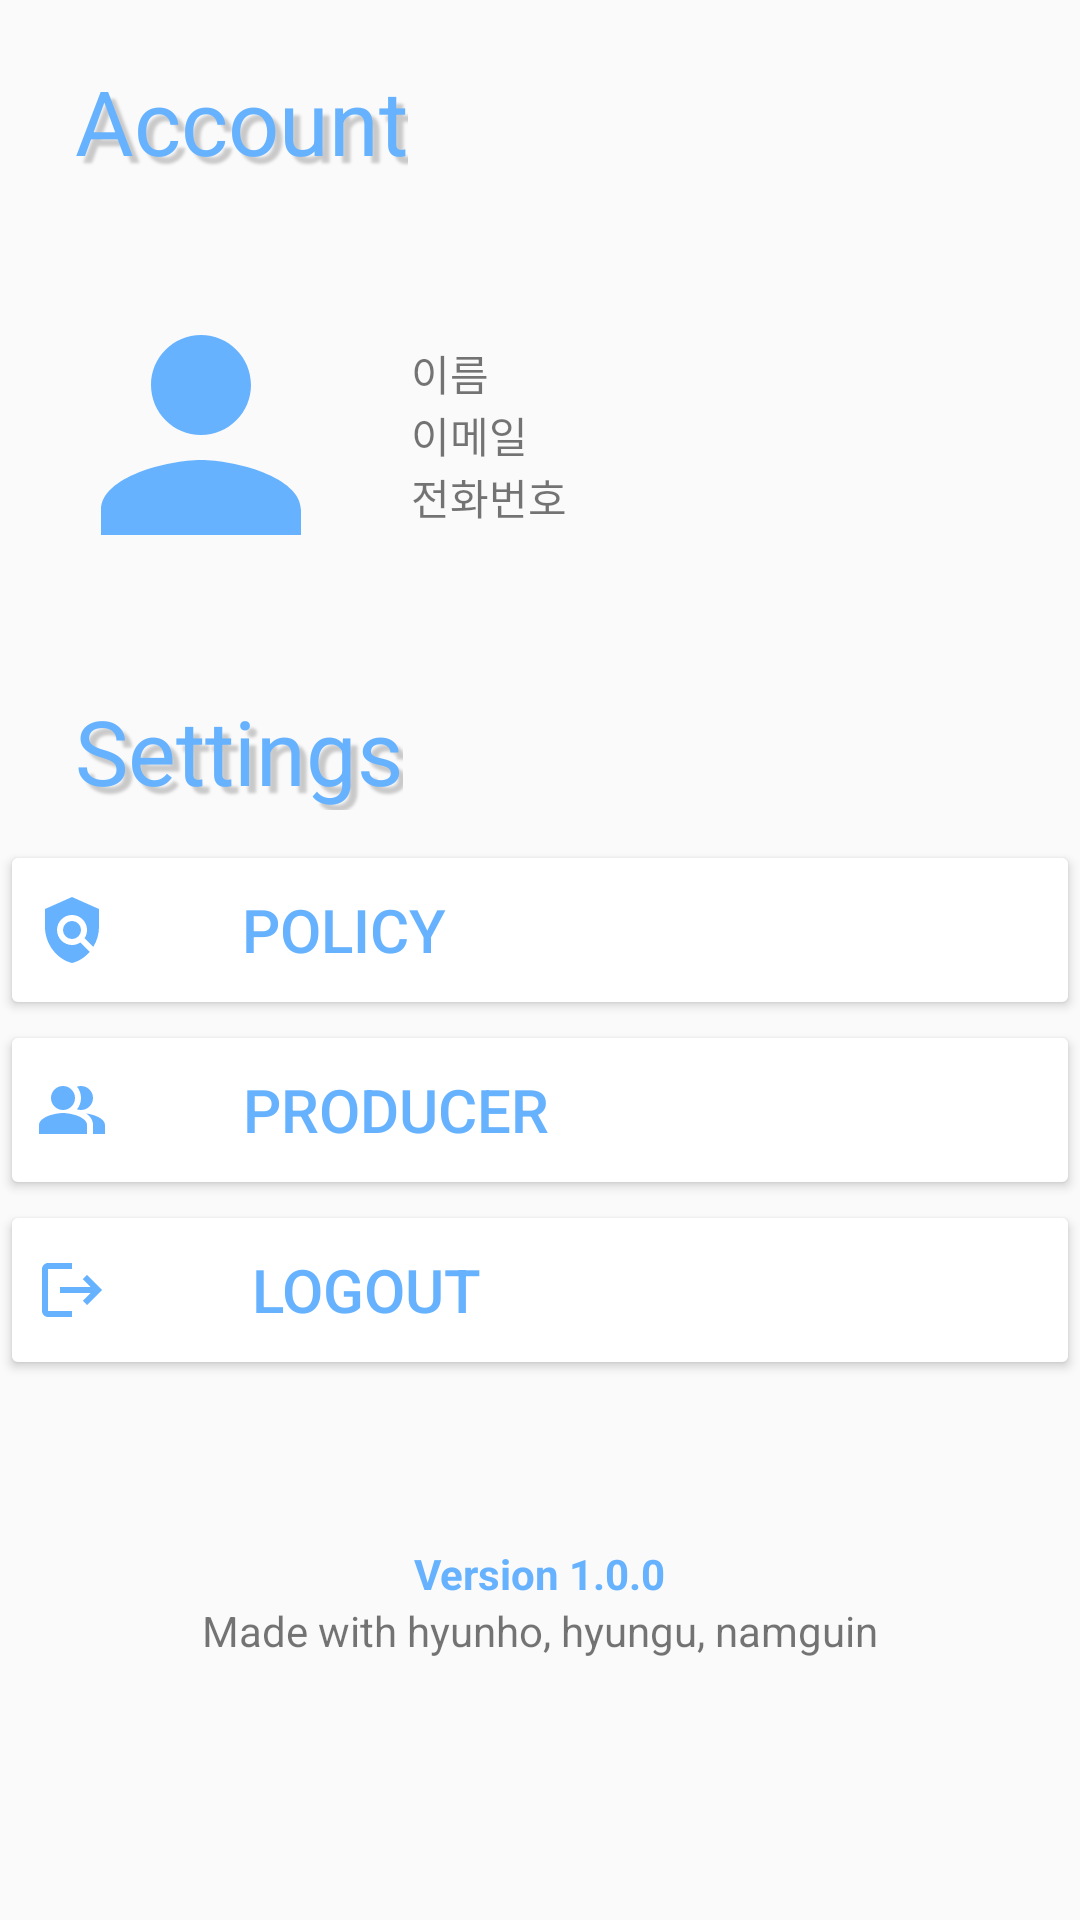

Locate icon controls on the screen. Image size 1080×1920, boxes as {"x1": x1, "y1": y1, "x2": x2, "y2": y2}.
profileperson: {"x1": 101, "y1": 335, "x2": 301, "y2": 535}
